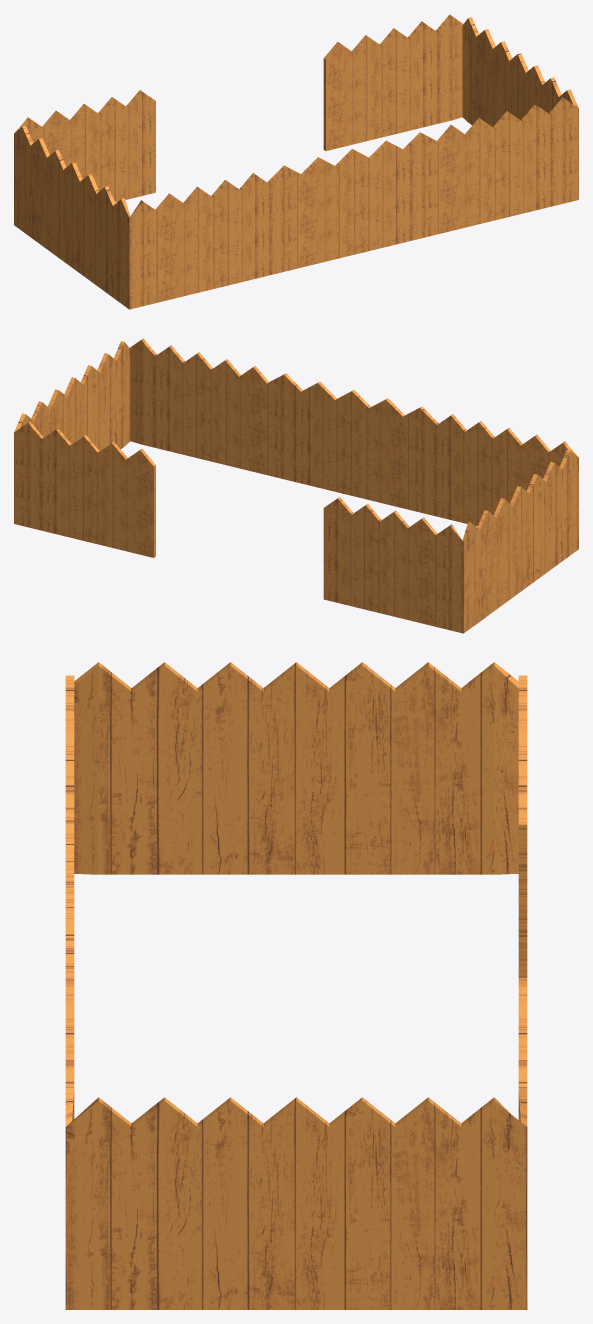
File: RoomFenceV1.fbx
3 renders of one model, top to bottom at view 1: azimuth 30°, elevation 25°; view 2: azimuth 150°, elevation 25°; view 3: azimuth 270°, elevation 25°, orthographic. The views are drawn at different scales.
Parts seen in each view (by area): view 1: Fence; view 2: Fence; view 3: Fence.
Boxes of the visible parts, left/top/right/bottom form: Fence: left=14, top=14, right=578, bottom=309; Fence: left=14, top=338, right=578, bottom=633; Fence: left=65, top=662, right=527, bottom=1309.
Bounding box in the file's own units: 900 × 200 × 400.
Materials: 1 (1 with a texture image).
